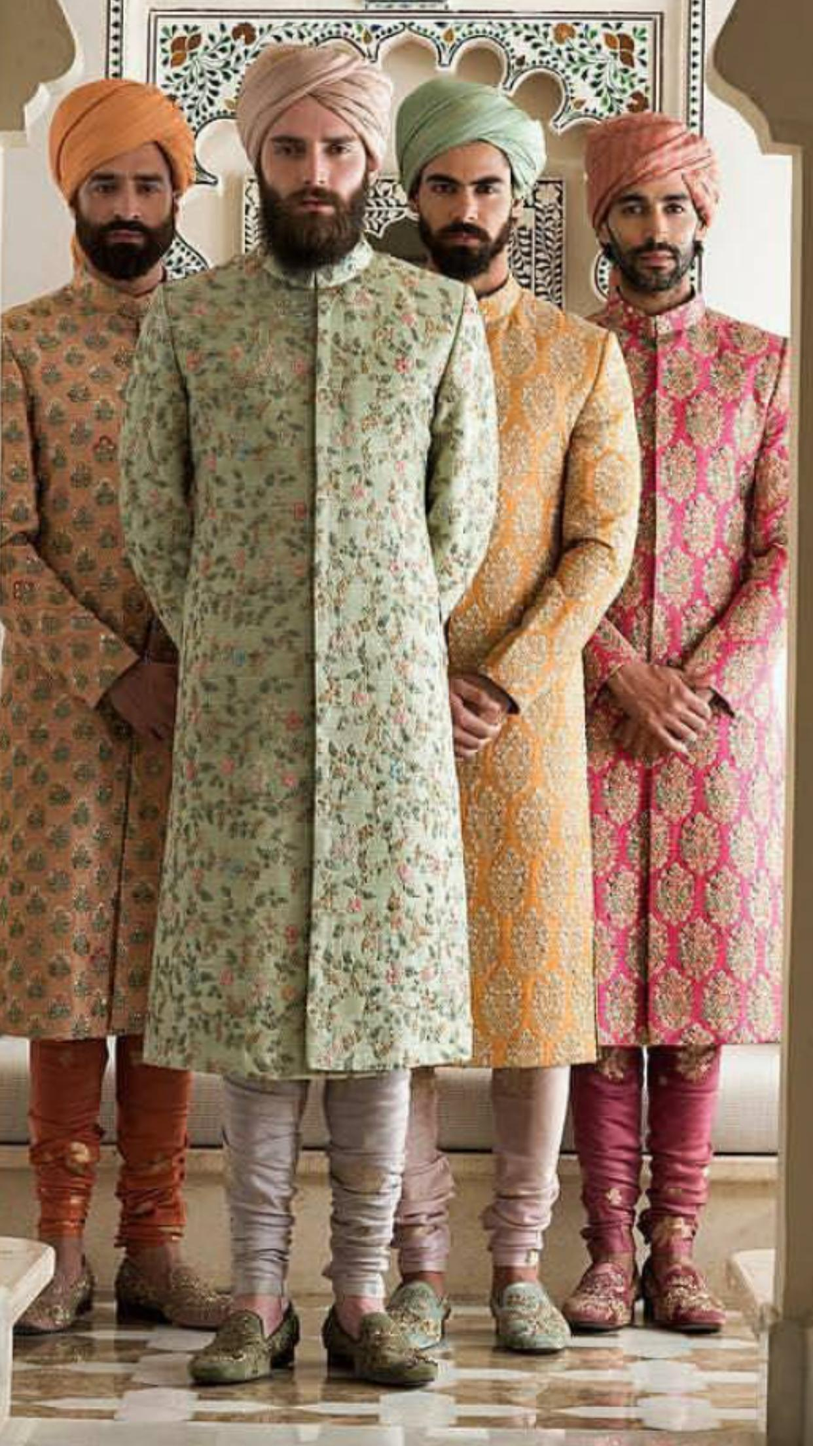Design Sherwani: (115, 236, 474, 1068), (599, 343, 802, 1051), (0, 257, 149, 1050), (459, 284, 602, 1075)
